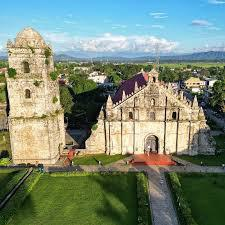paoay_church_paoay_ilocos_norte: (2, 22, 217, 158)
vegetation_damage: (41, 47, 54, 63), (7, 66, 19, 80), (48, 70, 59, 82), (50, 94, 59, 105)
